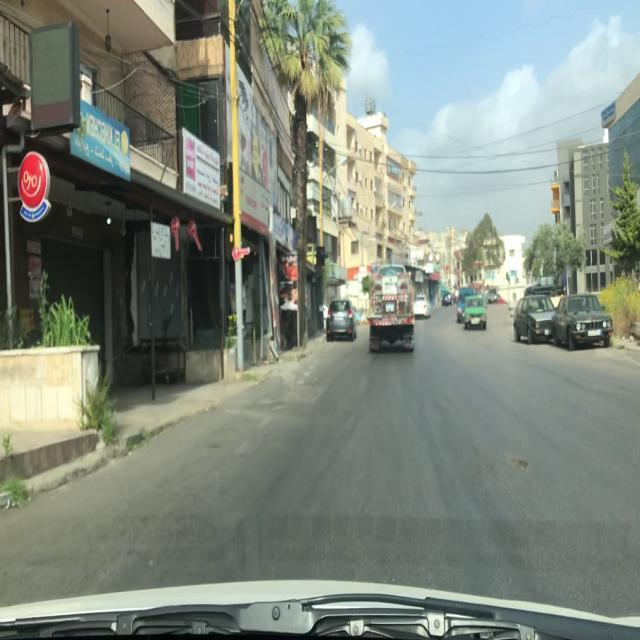pothole: (507, 452, 533, 475)
